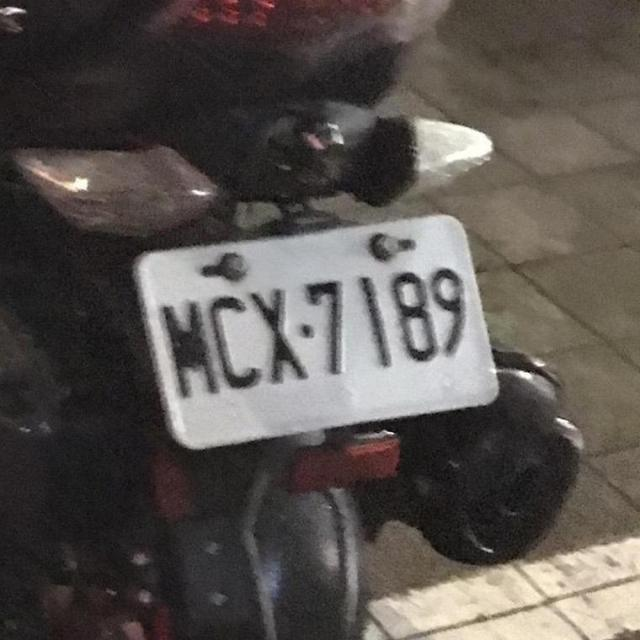W: (133, 210, 504, 454)
